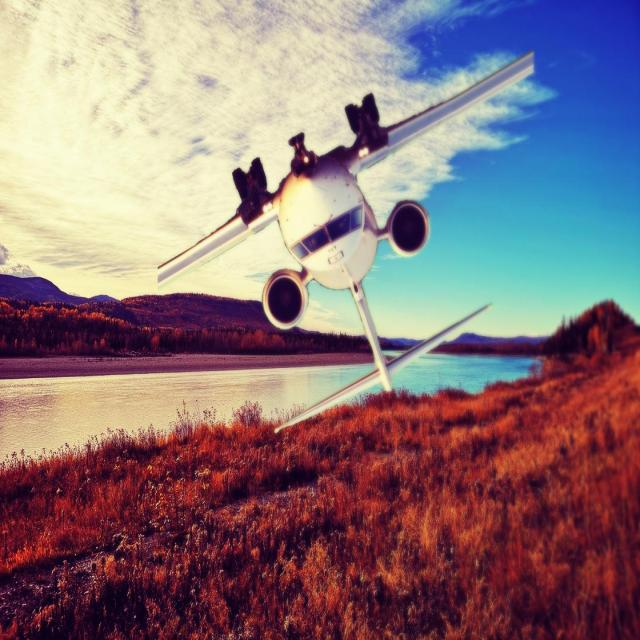airplane: (156, 49, 535, 433)
